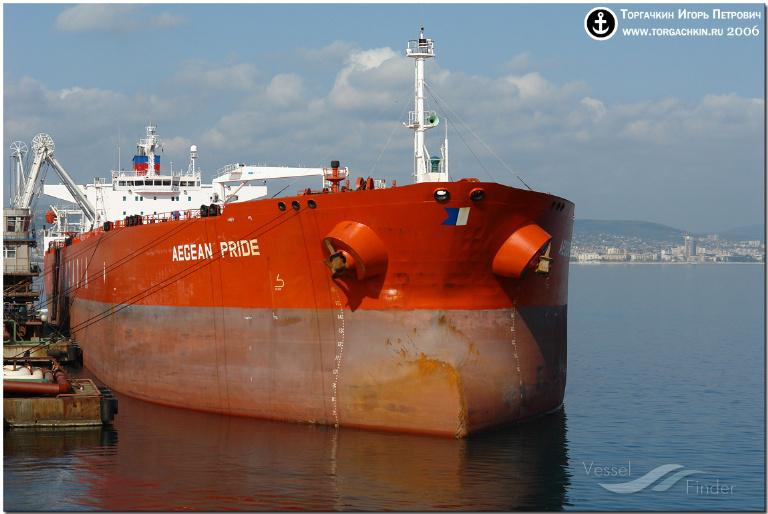OCR: (156, 235, 270, 264)
